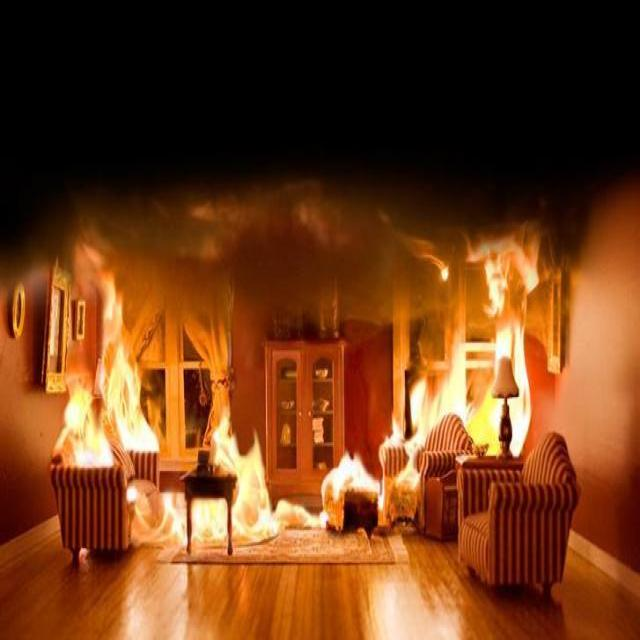Fire_Dangerous: (60, 298, 276, 552), (393, 230, 535, 461), (319, 453, 418, 537)
